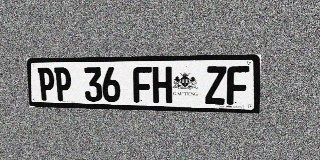3: (84, 67, 102, 102)
6: (102, 67, 121, 102)
F: (227, 66, 249, 105), (133, 67, 152, 103)
H: (152, 66, 172, 103)
P: (54, 67, 72, 101), (38, 67, 55, 101)
Z: (205, 66, 226, 105)
